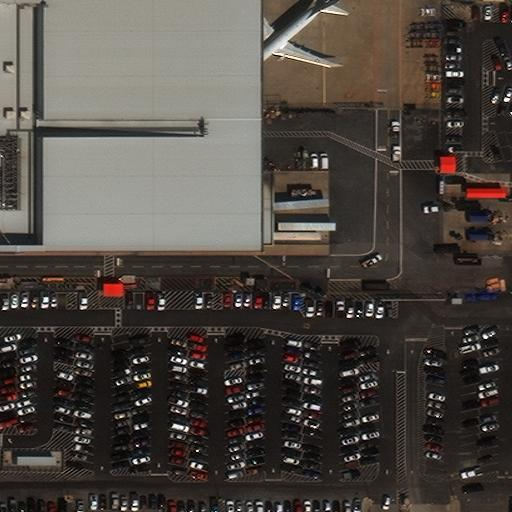Medium Civil Transport: (241, 0, 328, 70)
